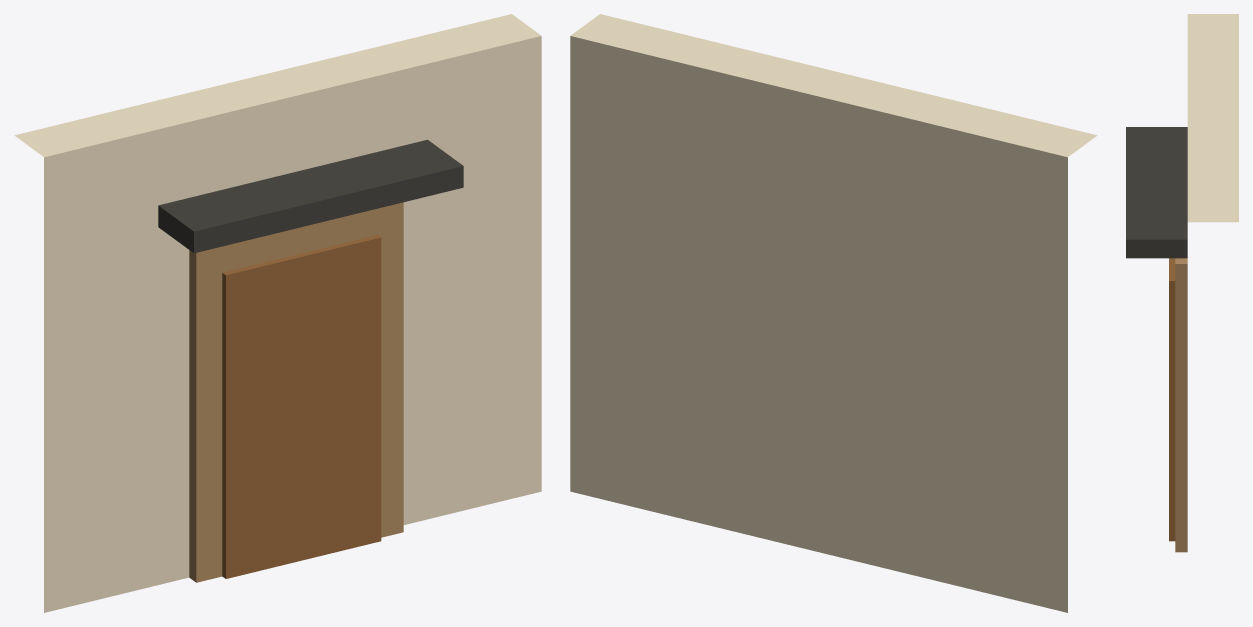
The model's file is dec_house_cream_door.glb.
3 views of the same model, side by side, from view 1: azimuth 30°, elevation 25°; view 2: azimuth 150°, elevation 25°; view 3: azimuth 270°, elevation 25° (orthographic). The views are drawn at different scales.
Visible parts, largest first — view 1: dec_house_cream_door_mesh; view 2: dec_house_cream_door_mesh; view 3: dec_house_cream_door_mesh.
Part boxes in pixels (x1=…): dec_house_cream_door_mesh: x1=14, y1=14, x2=541, y2=612; dec_house_cream_door_mesh: x1=570, y1=14, x2=1097, y2=612; dec_house_cream_door_mesh: x1=1126, y1=14, x2=1238, y2=552.
Size of the model in its own units: 0.48 by 0.42 by 0.11.
Materials: 1 (1 with a texture image).
